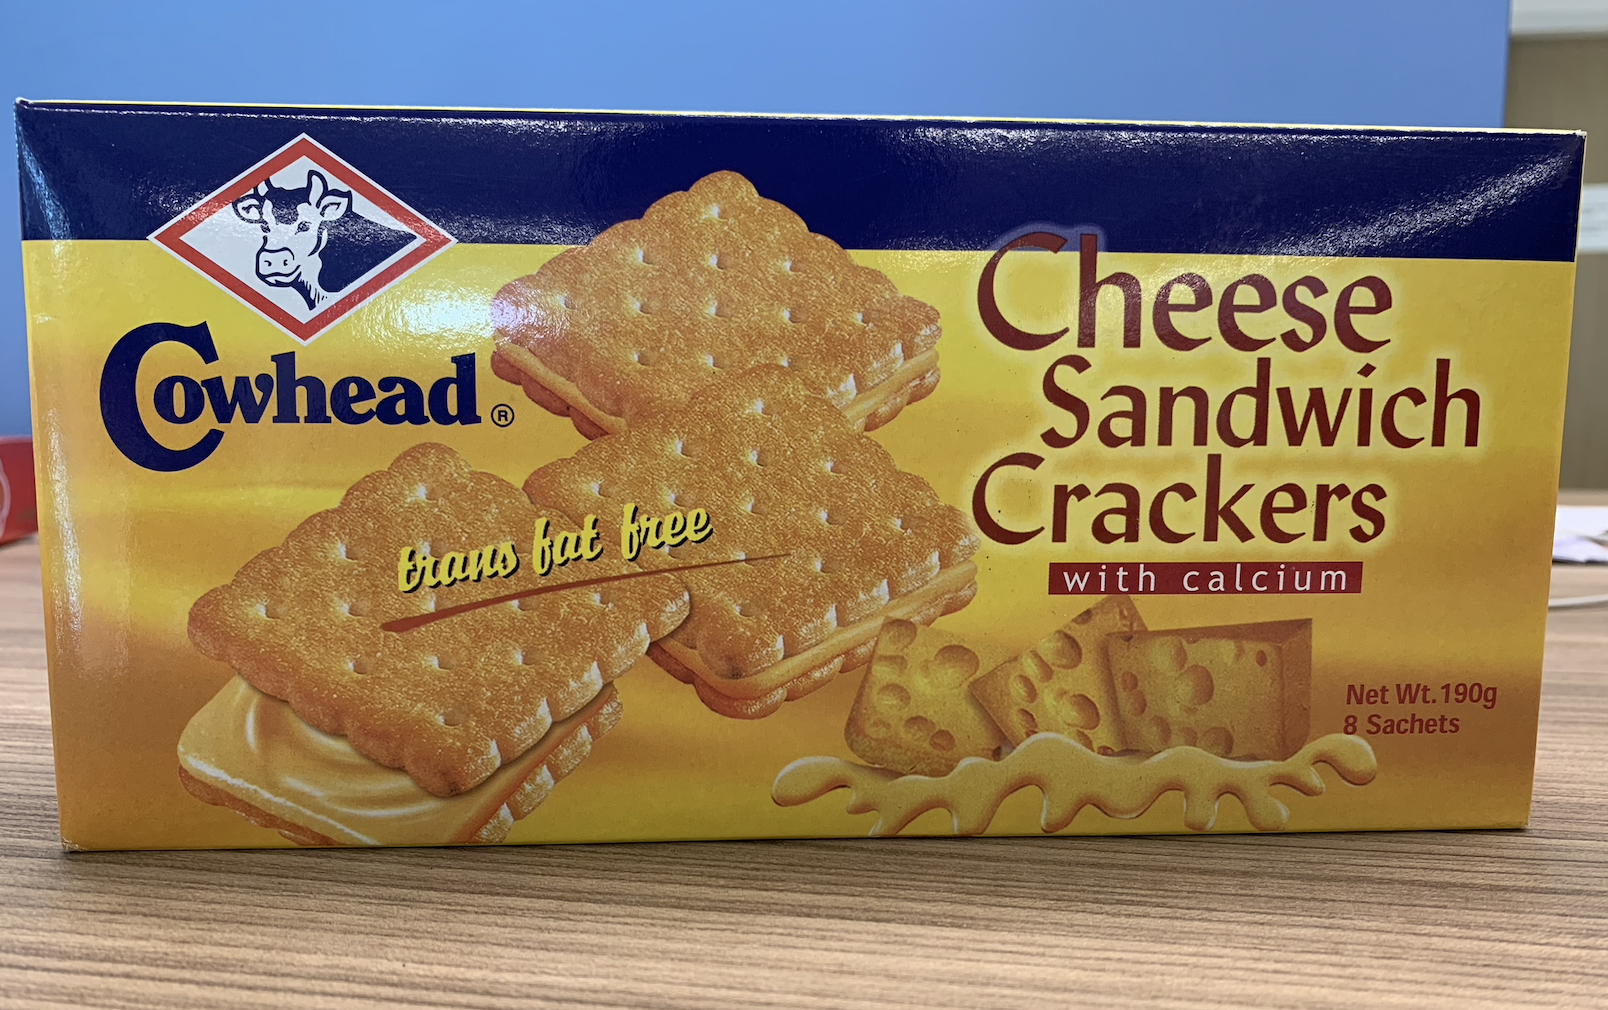crackers_150g: (95, 128, 1527, 818)
